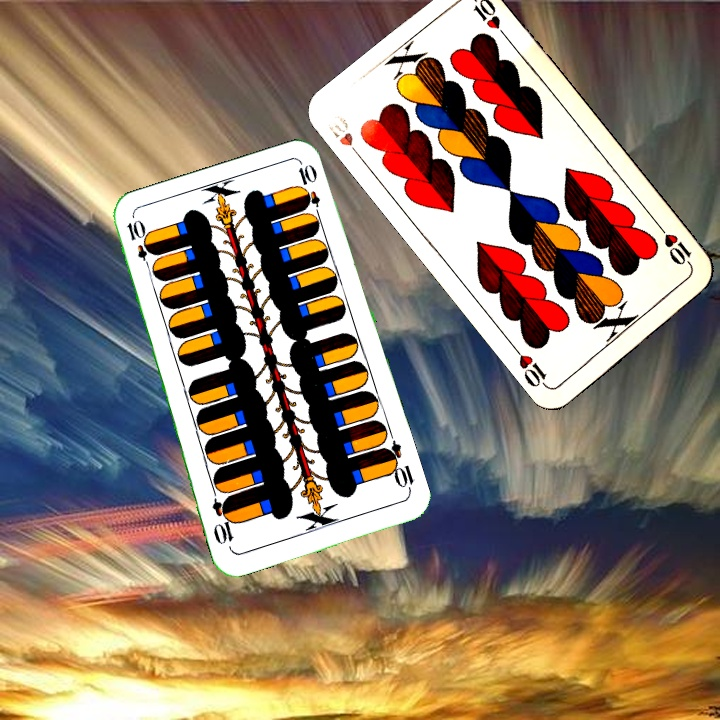E10: (379, 438, 417, 495), (123, 216, 156, 274)
H10: (323, 112, 366, 163), (654, 221, 696, 271)
